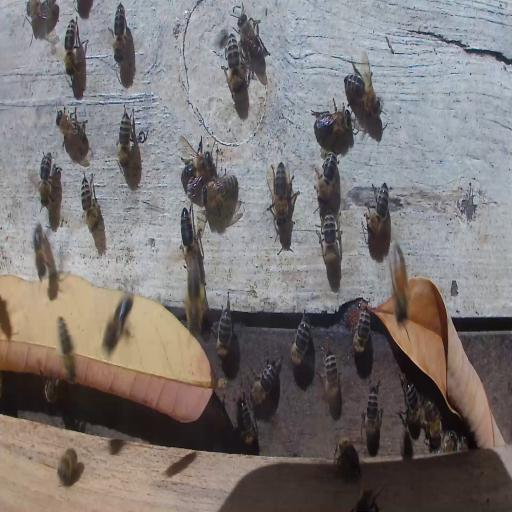bee: (102, 288, 136, 355), (236, 9, 268, 75), (344, 64, 382, 118), (268, 161, 298, 228), (250, 349, 284, 406), (180, 138, 213, 192), (54, 314, 79, 383), (184, 260, 206, 338), (54, 105, 89, 154), (24, 2, 60, 40), (224, 36, 245, 101), (366, 182, 391, 236), (80, 172, 102, 232), (314, 102, 348, 140), (400, 380, 422, 438), (318, 211, 341, 266), (392, 242, 408, 320), (317, 149, 338, 206), (63, 16, 82, 78), (323, 346, 342, 406), (290, 314, 311, 368), (363, 381, 381, 442), (204, 177, 238, 209), (352, 302, 372, 356), (335, 437, 361, 478), (216, 299, 234, 358), (56, 447, 83, 486), (34, 222, 52, 280), (118, 104, 134, 167), (423, 399, 442, 448), (112, 2, 126, 62), (237, 397, 257, 439), (39, 151, 52, 207), (440, 428, 469, 453), (181, 207, 194, 253), (353, 488, 378, 511), (44, 377, 59, 405)
